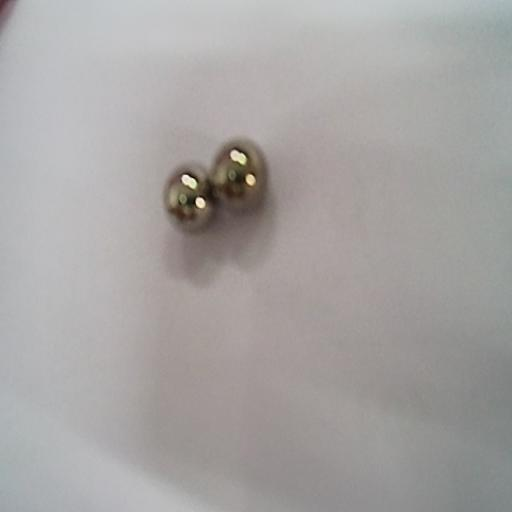steel-ball: (209, 138, 271, 213), (164, 152, 211, 237)
